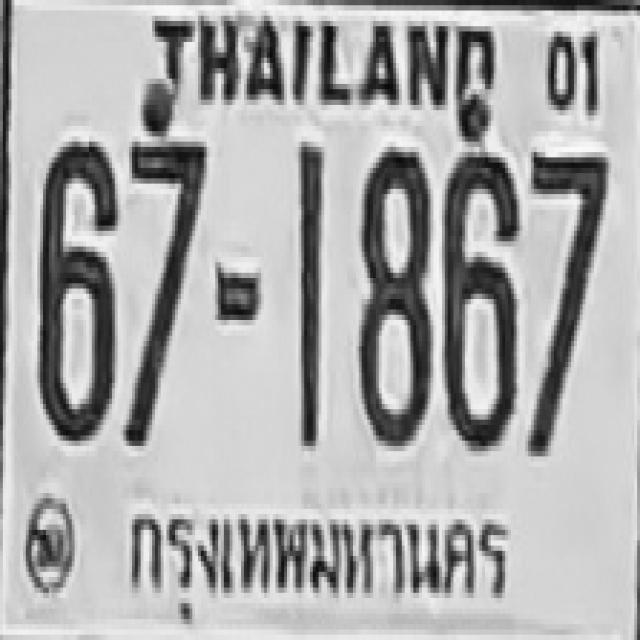1: (296, 139, 322, 443)
6: (37, 136, 115, 441), (442, 150, 517, 443)
7: (122, 134, 205, 443), (527, 147, 607, 451)
8: (357, 147, 429, 441)
Bangkok: (110, 479, 520, 640)
